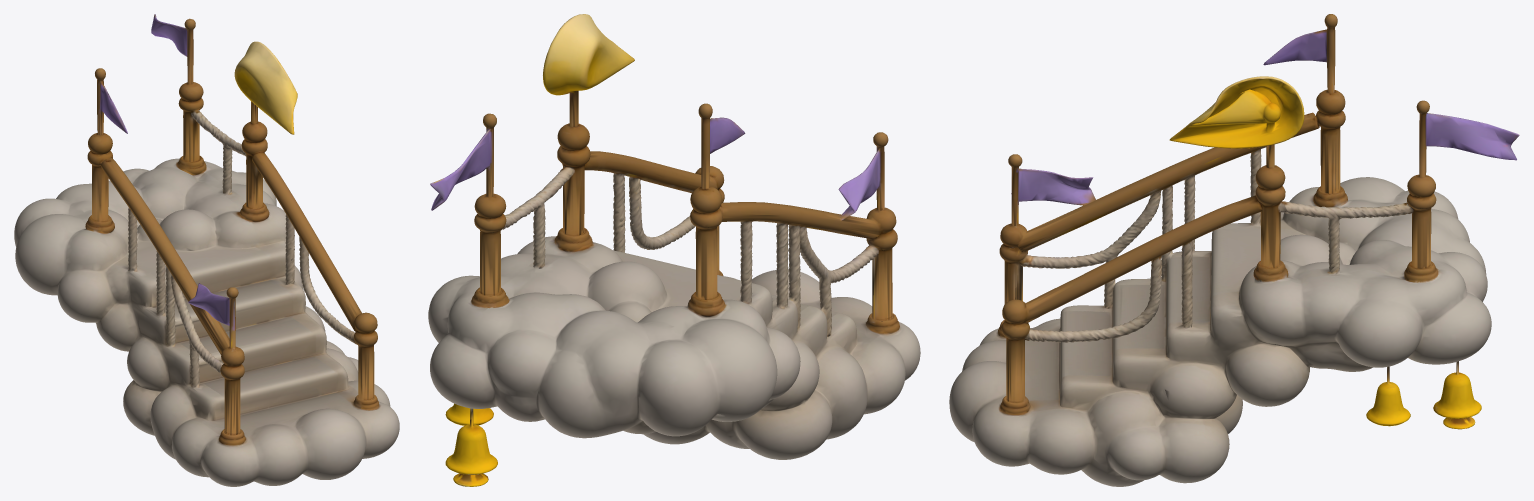
The model's file is cloud-stair-railing-2.glb.
3 views of the same model, side by side, from view 1: azimuth 30°, elevation 25°; view 2: azimuth 150°, elevation 25°; view 3: azimuth 270°, elevation 25° (orthographic). The views are drawn at different scales.
Parts seen in each view (by area): view 1: node_0; view 2: node_0; view 3: node_0.
Boxes of the visible parts, <box> form: node_0: <box>14,14,399,486</box>; node_0: <box>428,14,920,486</box>; node_0: <box>949,14,1519,486</box>.
Size of the model in its own units: 0.6102 by 0.791 by 1.
Materials: 1 (1 with a texture image).
